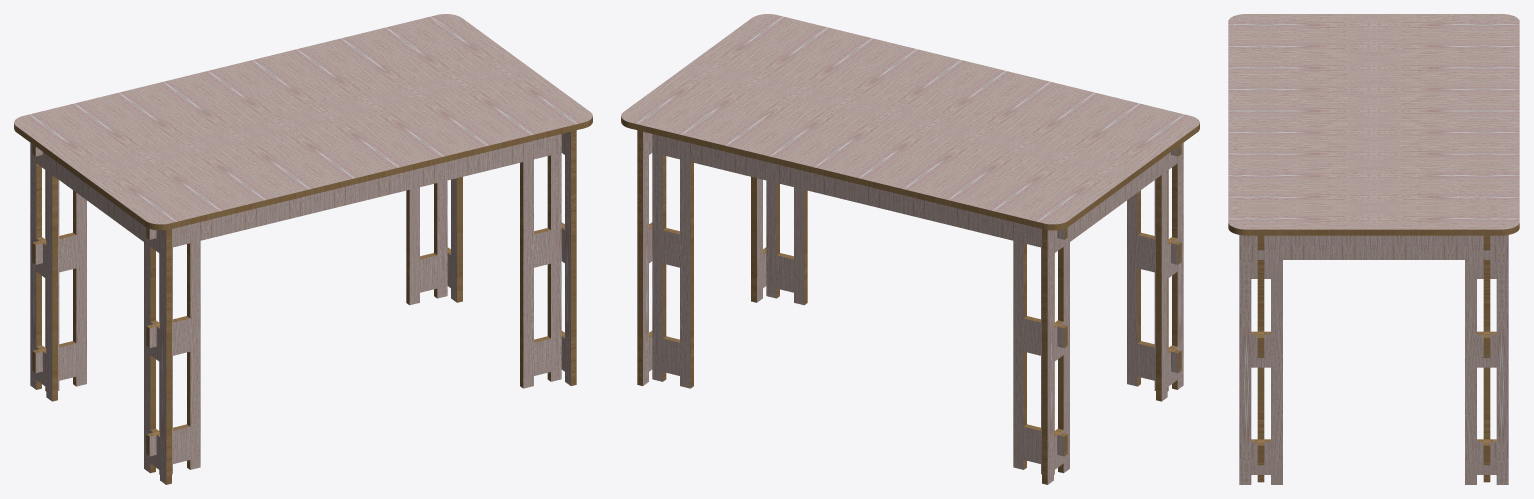
Rendered from NODO_COMEDOR_COUNTRY_PARAISO_V1_REVISION.glb.
The picture shows the model from 3 angles, left to right: view 1: azimuth 30°, elevation 25°; view 2: azimuth 150°, elevation 25°; view 3: azimuth 270°, elevation 25°; orthographic projection.
Visible parts, largest first — view 1: Tapa, Lateral_2, Lateral_4, Lateral_1, Lateral_3; view 2: Tapa, Lateral_1, Lateral_4, Lateral_2, Lateral_3; view 3: Tapa, Lateral_3, Lateral_1, Lateral_2, Lateral_4.
Boxes of the visible parts, x1=… form: Tapa: x1=14, y1=14, x2=592, y2=230; Lateral_2: x1=146, y1=134, x2=564, y2=474; Lateral_4: x1=30, y1=143, x2=171, y2=484; Lateral_1: x1=32, y1=144, x2=450, y2=391; Lateral_3: x1=447, y1=130, x2=576, y2=385; Tapa: x1=621, y1=14, x2=1199, y2=230; Lateral_1: x1=649, y1=134, x2=1067, y2=474; Lateral_4: x1=1042, y1=143, x2=1183, y2=484; Lateral_2: x1=763, y1=144, x2=1181, y2=391; Lateral_3: x1=637, y1=130, x2=766, y2=385; Tapa: x1=1228, y1=14, x2=1519, y2=235; Lateral_3: x1=1239, y1=235, x2=1508, y2=484; Lateral_1: x1=1483, y1=235, x2=1490, y2=482; Lateral_2: x1=1257, y1=235, x2=1264, y2=482; Lateral_4: x1=1251, y1=260, x2=1496, y2=278.
Bounding box in the file's own units: 1.4 × 0.799 × 0.8.
Materials: 2 (2 with a texture image).
